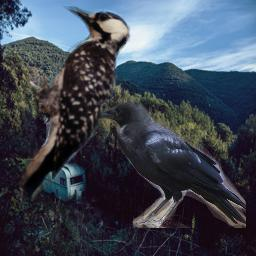Crow: (93, 99, 246, 228)
Woodpecker: (15, 4, 143, 209)
